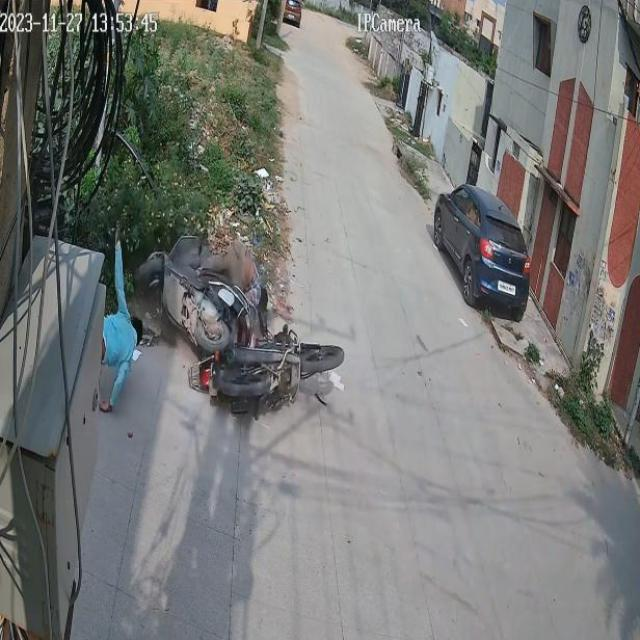accident: (134, 235, 261, 370), (193, 311, 355, 413)
